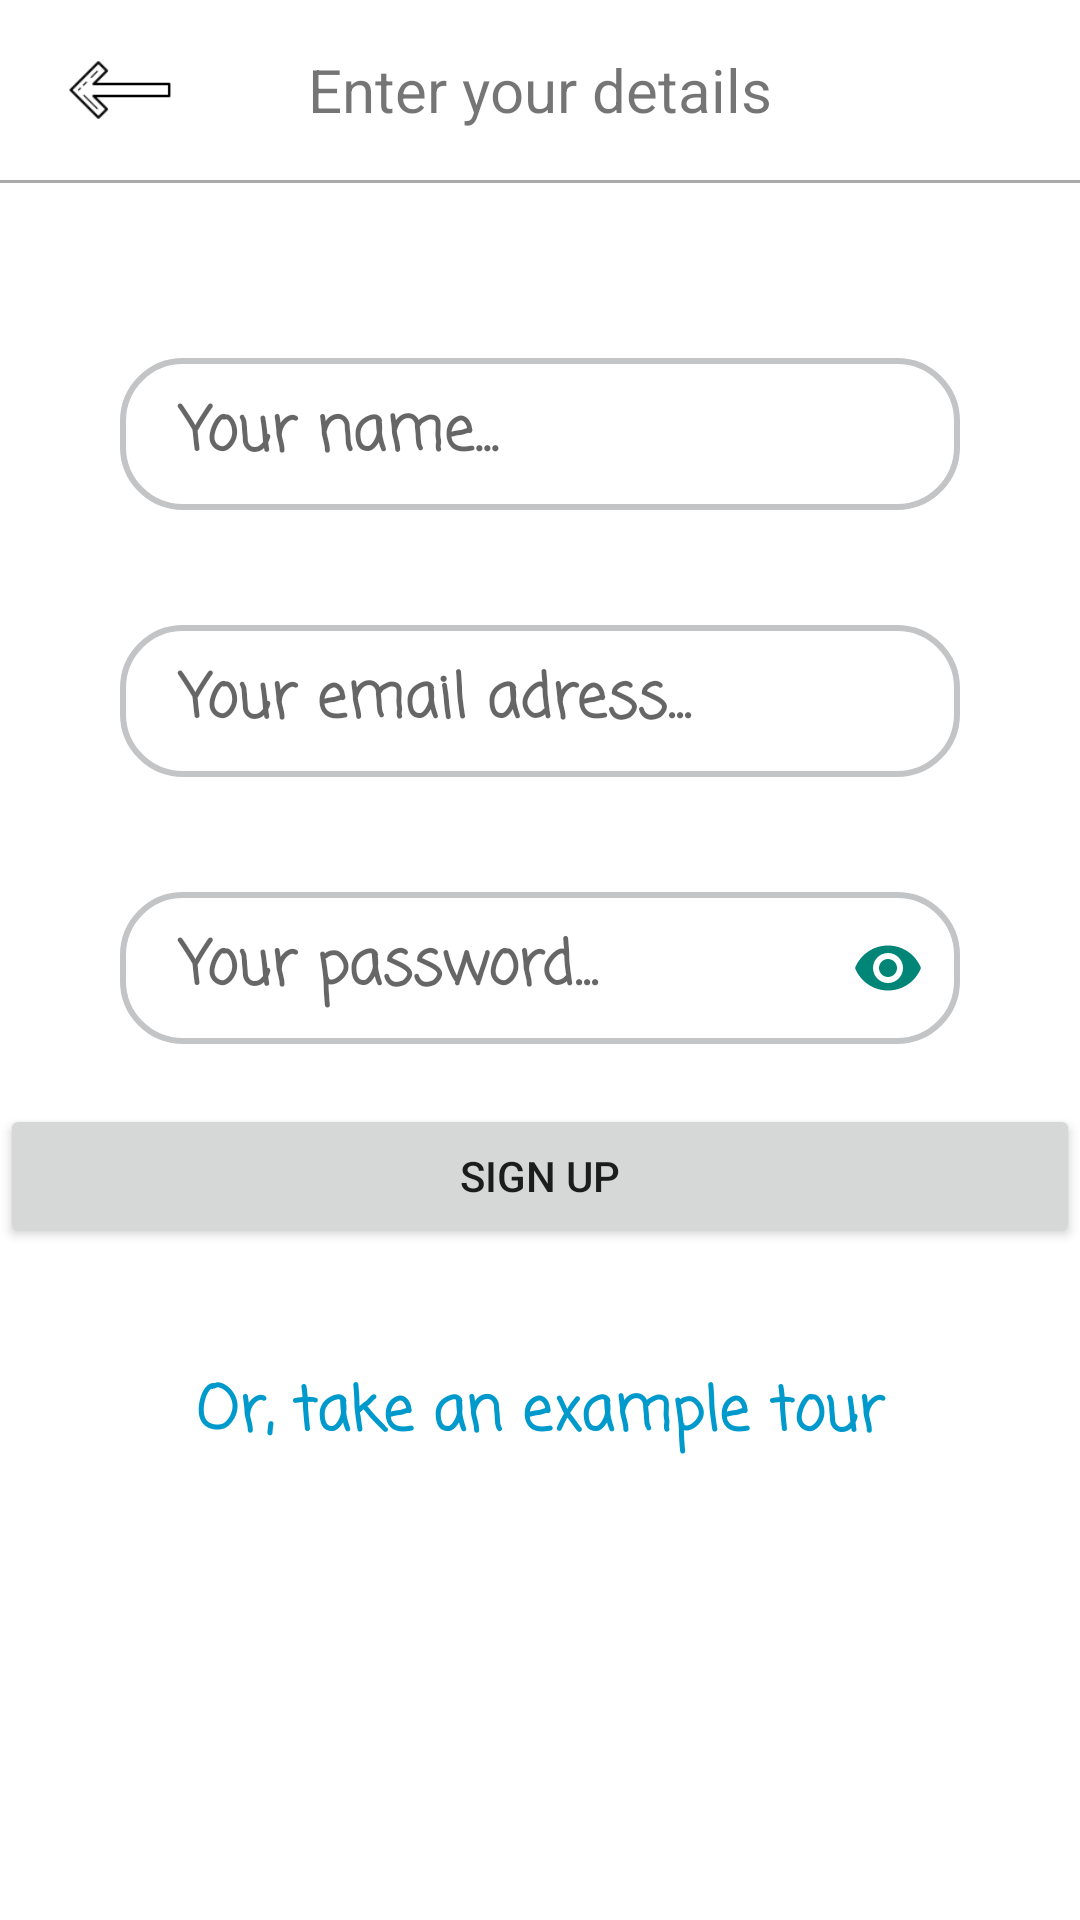

Where icons sit on this 1080w x 1920h app screen, as [x1,y1,x2,y2]:
leftarrow: [69,61,171,119]
